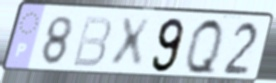2: (220, 19, 261, 78)
8: (40, 14, 76, 66)
9: (149, 16, 187, 75)
B: (69, 14, 114, 69)
Q: (184, 16, 225, 79)
X: (108, 17, 154, 71)
